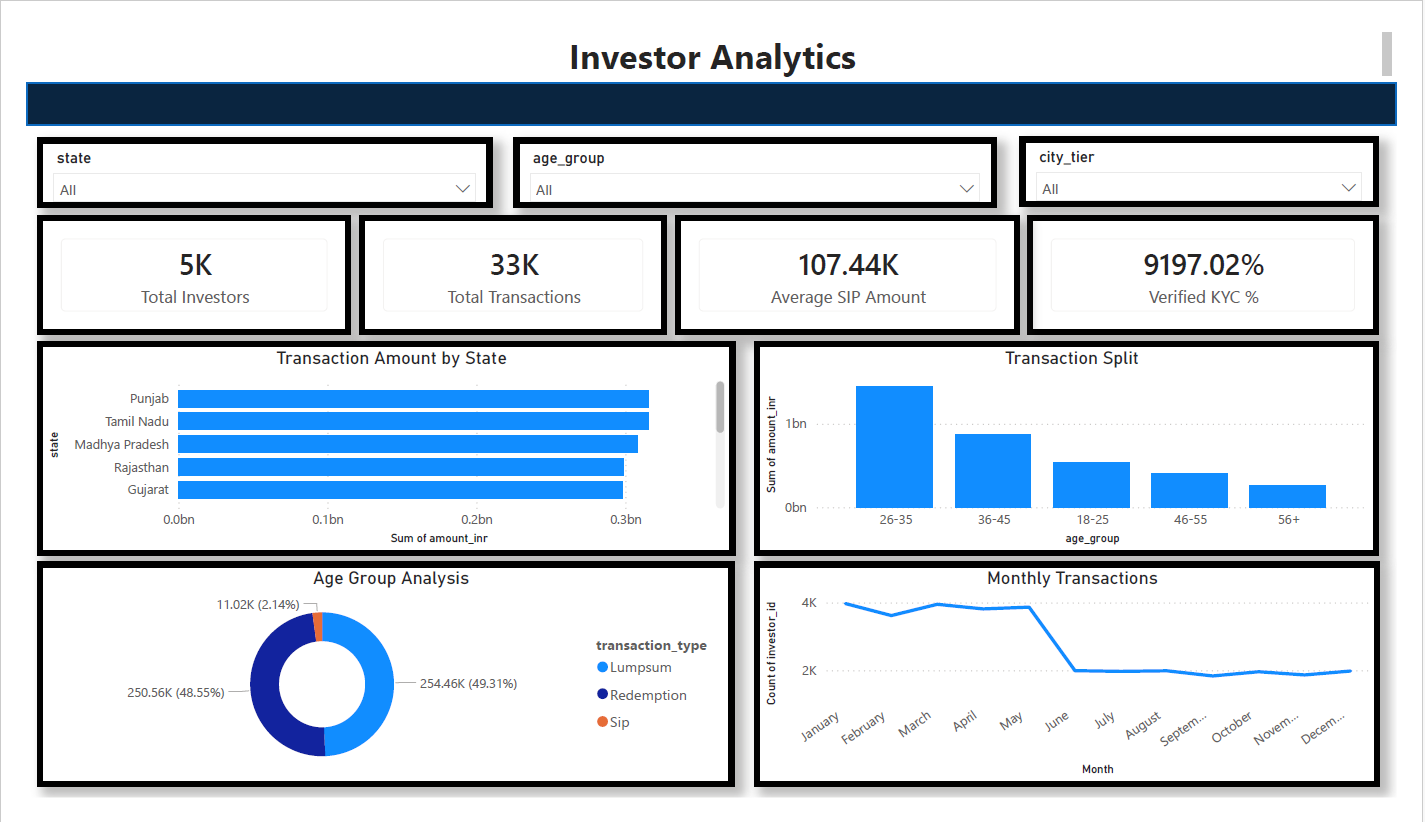

What the dashboard file says about the page in this screenshot:
{"tool":"powerbi","page":{"name":"Investor Analytics","canvas":[1280,720],"ordinal":2},"visuals":[{"type":"textbox","box":[10,0,1270,51.7],"z":0},{"type":"shape","box":[0,51.7,1280,40],"z":1000},{"type":"slicer","fields":{"Values":["clean_transaction.state"]},"box":[9.8,103.9,425.5,64.7],"z":2000},{"type":"slicer","fields":{"Values":["clean_transaction.city_tier"]},"box":[928.3,103.3,335,65],"z":3000},{"type":"slicer","fields":{"Values":["clean_transaction.age_group"]},"box":[454.9,103.9,451,64.7],"z":4000},{"type":"cardVisual","fields":{"Data":["03_aum_by_fund_house.Total Investors"]},"box":[10,175.8,292.5,111.7],"z":5000},{"type":"cardVisual","fields":{"Data":["03_aum_by_fund_house.Verified KYC %"]},"box":[935,175.8,328.3,111.7],"z":6000},{"type":"cardVisual","fields":{"Data":["03_aum_by_fund_house.Total Transactions"]},"box":[310.8,175.8,287.5,111.7],"z":7000},{"type":"cardVisual","fields":{"Data":["03_aum_by_fund_house.Average SIP Amount"]},"box":[605.8,175.8,322.5,111.7],"z":8000},{"type":"barChart","title":"Transaction Amount by State","fields":{"Category":["clean_transaction.state"],"Y":["Sum(clean_transaction.amount_inr)"]},"box":[10,294.2,651.7,200],"z":8001},{"type":"donutChart","title":"Age Group Analysis","fields":{"Category":["clean_transaction.transaction_type"],"Y":["Avg(clean_transaction.amount_inr)"]},"box":[10,500,651.4,210],"z":8002},{"type":"columnChart","title":"Transaction Split","fields":{"Category":["clean_transaction.age_group"],"Y":["Sum(clean_transaction.amount_inr)"]},"box":[680,294.2,582.5,200],"z":8003},{"type":"lineChart","title":"Monthly Transactions","fields":{"Category":["clean_transaction.transaction_date.Variation.Date Hierarchy.Month","clean_transaction.transaction_date.Variation.Date Hierarchy.Day"],"Y":["CountNonNull(clean_transaction.investor_id)"]},"box":[680,500,584.3,210],"z":8004}]}

Visuals, with their boxes in screenshot pixels (x1, y1, x2, y2), scaled from the page's 1280x720 canvas onto the 1425x822 screenshot:
textbox: <region>11, 0, 1424, 59</region>
shape: <region>0, 59, 1424, 105</region>
slicer - clean_transaction.state: <region>11, 119, 485, 192</region>
slicer - clean_transaction.city_tier: <region>1033, 118, 1406, 192</region>
slicer - clean_transaction.age_group: <region>506, 119, 1009, 192</region>
cardVisual - 03_aum_by_fund_house.Total Investors: <region>11, 201, 337, 328</region>
cardVisual - 03_aum_by_fund_house.Verified KYC %: <region>1041, 201, 1406, 328</region>
cardVisual - 03_aum_by_fund_house.Total Transactions: <region>346, 201, 666, 328</region>
cardVisual - 03_aum_by_fund_house.Average SIP Amount: <region>674, 201, 1033, 328</region>
"Transaction Amount by State" barChart: <region>11, 336, 737, 564</region>
"Age Group Analysis" donutChart: <region>11, 571, 736, 811</region>
"Transaction Split" columnChart: <region>757, 336, 1406, 564</region>
"Monthly Transactions" lineChart: <region>757, 571, 1408, 811</region>
